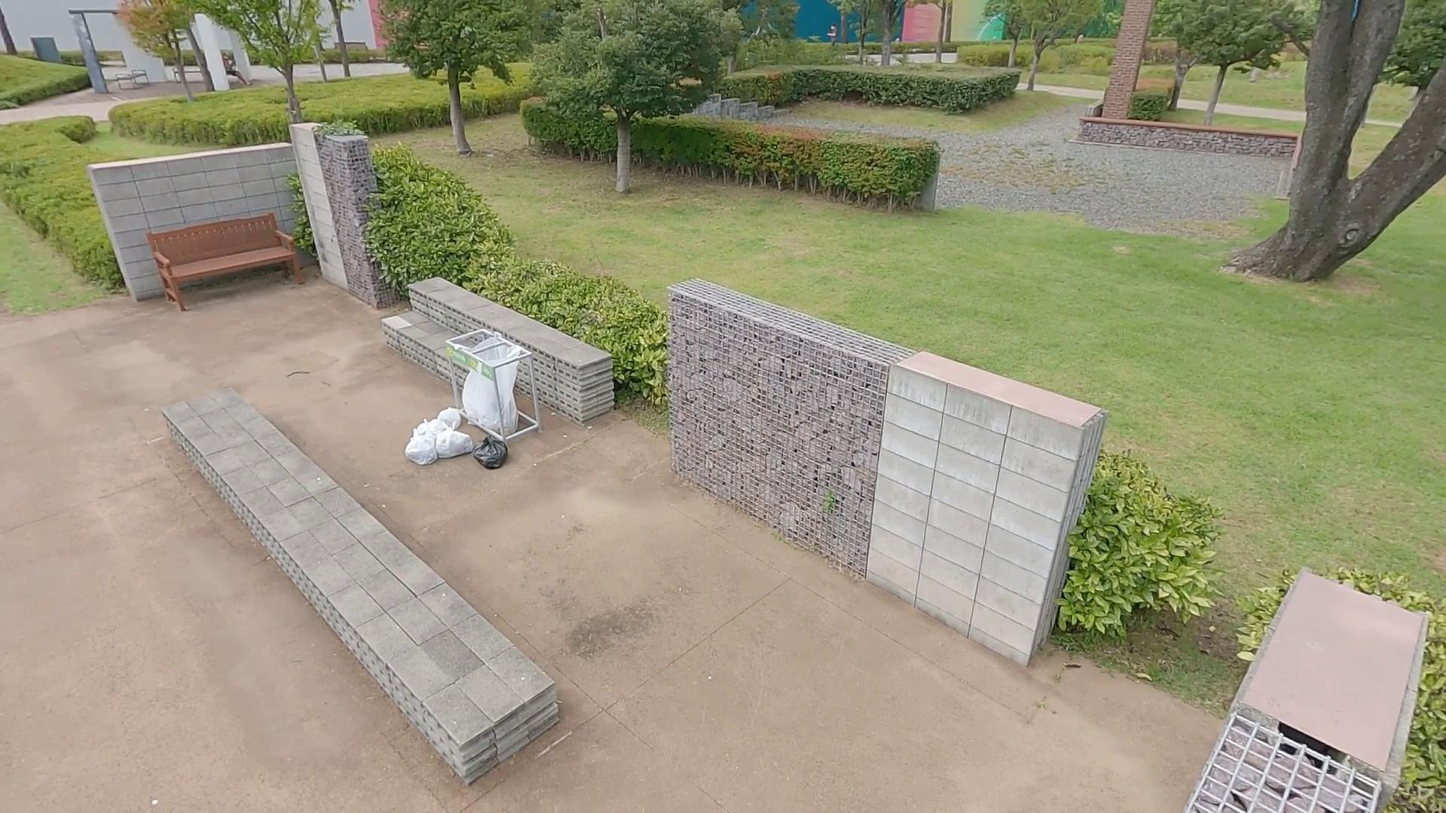trash: (469, 432, 510, 471), (404, 430, 442, 466), (433, 423, 471, 457), (412, 415, 451, 442), (434, 405, 462, 426)
